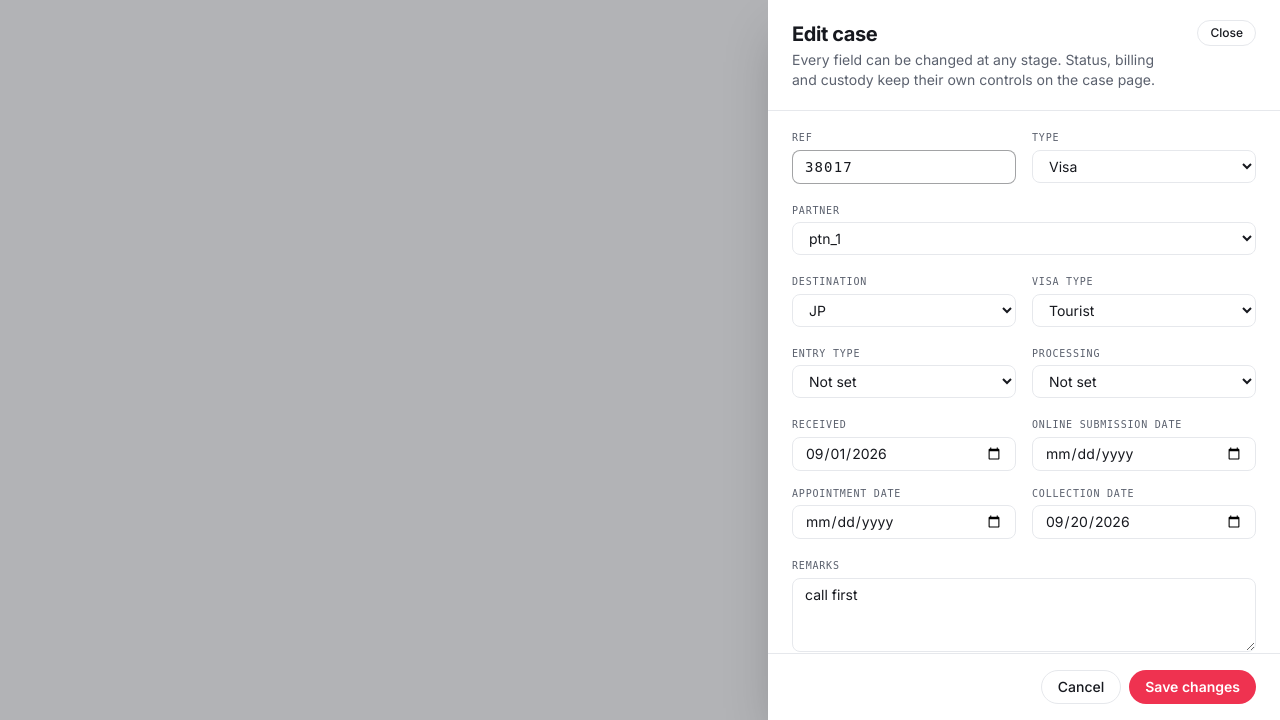
Scenario: EditCaseDrawer › shows the server's 409 message and stays open when the REF is taken
Replace the text in the field labelled "REF" with "38018" at (904, 166), box [792,150,1016,184]
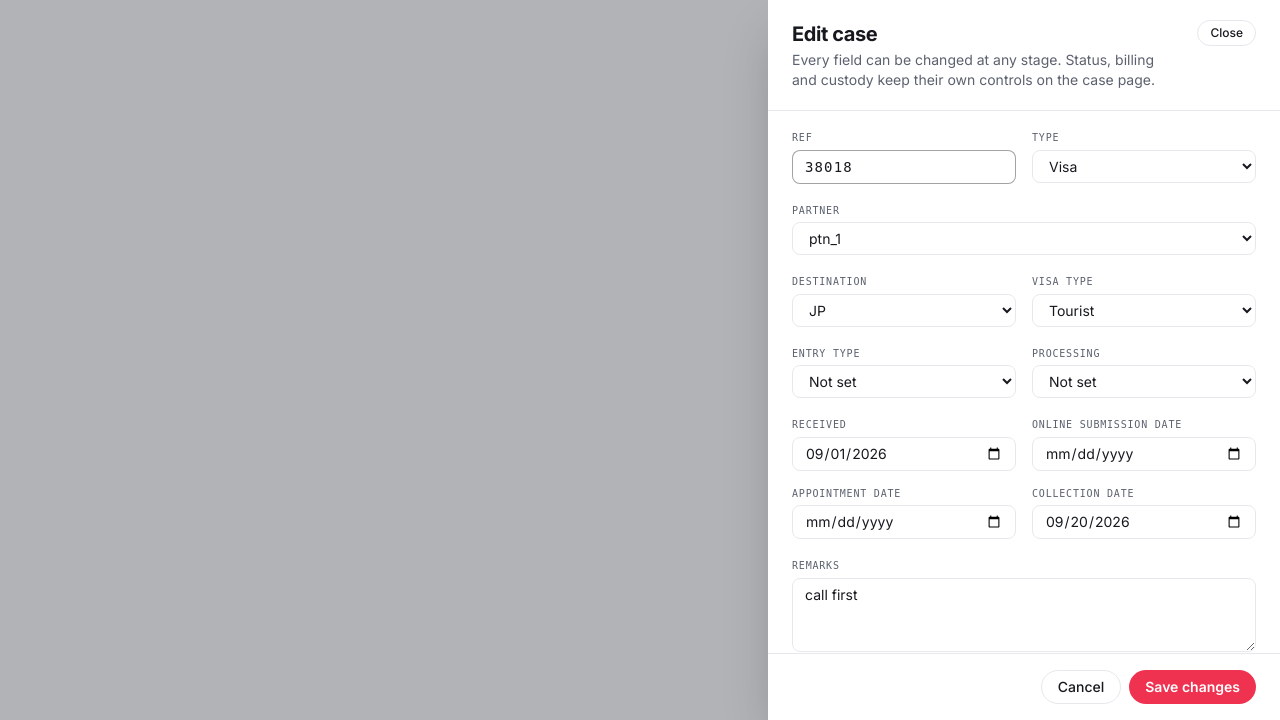
Click the button "Save changes".
click(1193, 687)  # box [1129,670,1256,704]
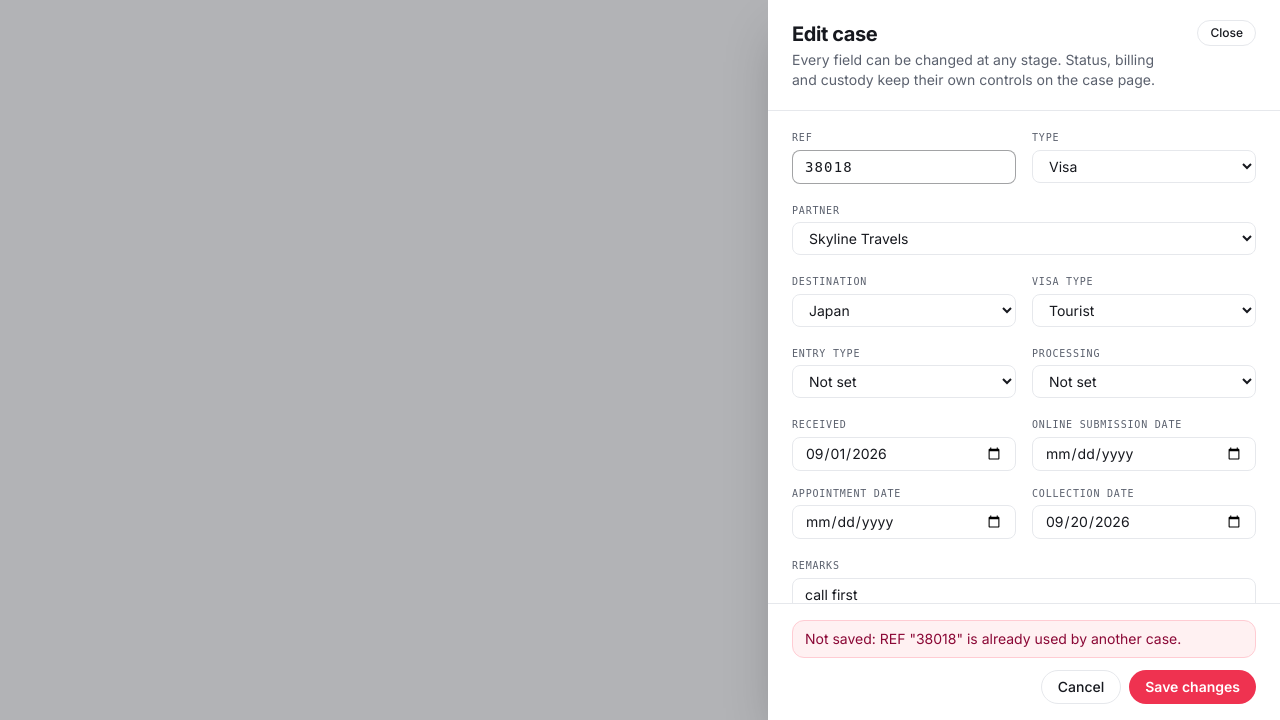
Result: the text "Not saved: REF \"38018\" is already used by another case." is shown at [805,629,1243,649]
